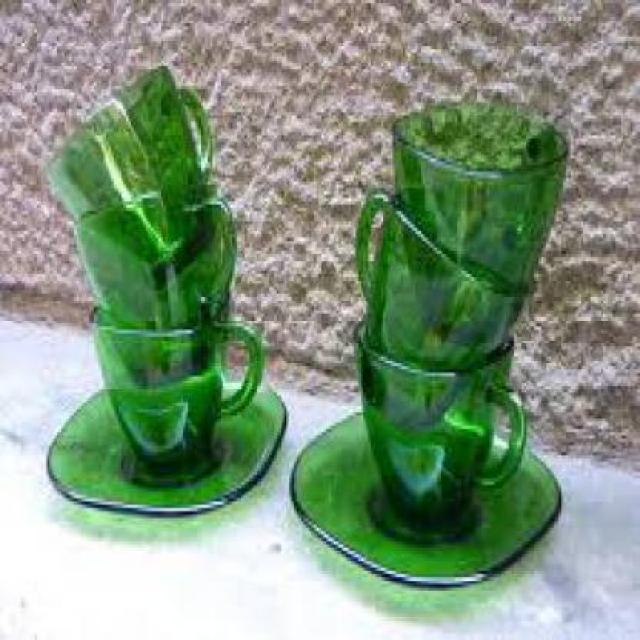GLASS: (290, 405, 558, 587), (353, 310, 524, 521), (388, 105, 566, 293), (44, 379, 284, 515), (356, 188, 521, 369), (86, 297, 262, 465), (45, 62, 212, 215), (69, 181, 237, 330)
